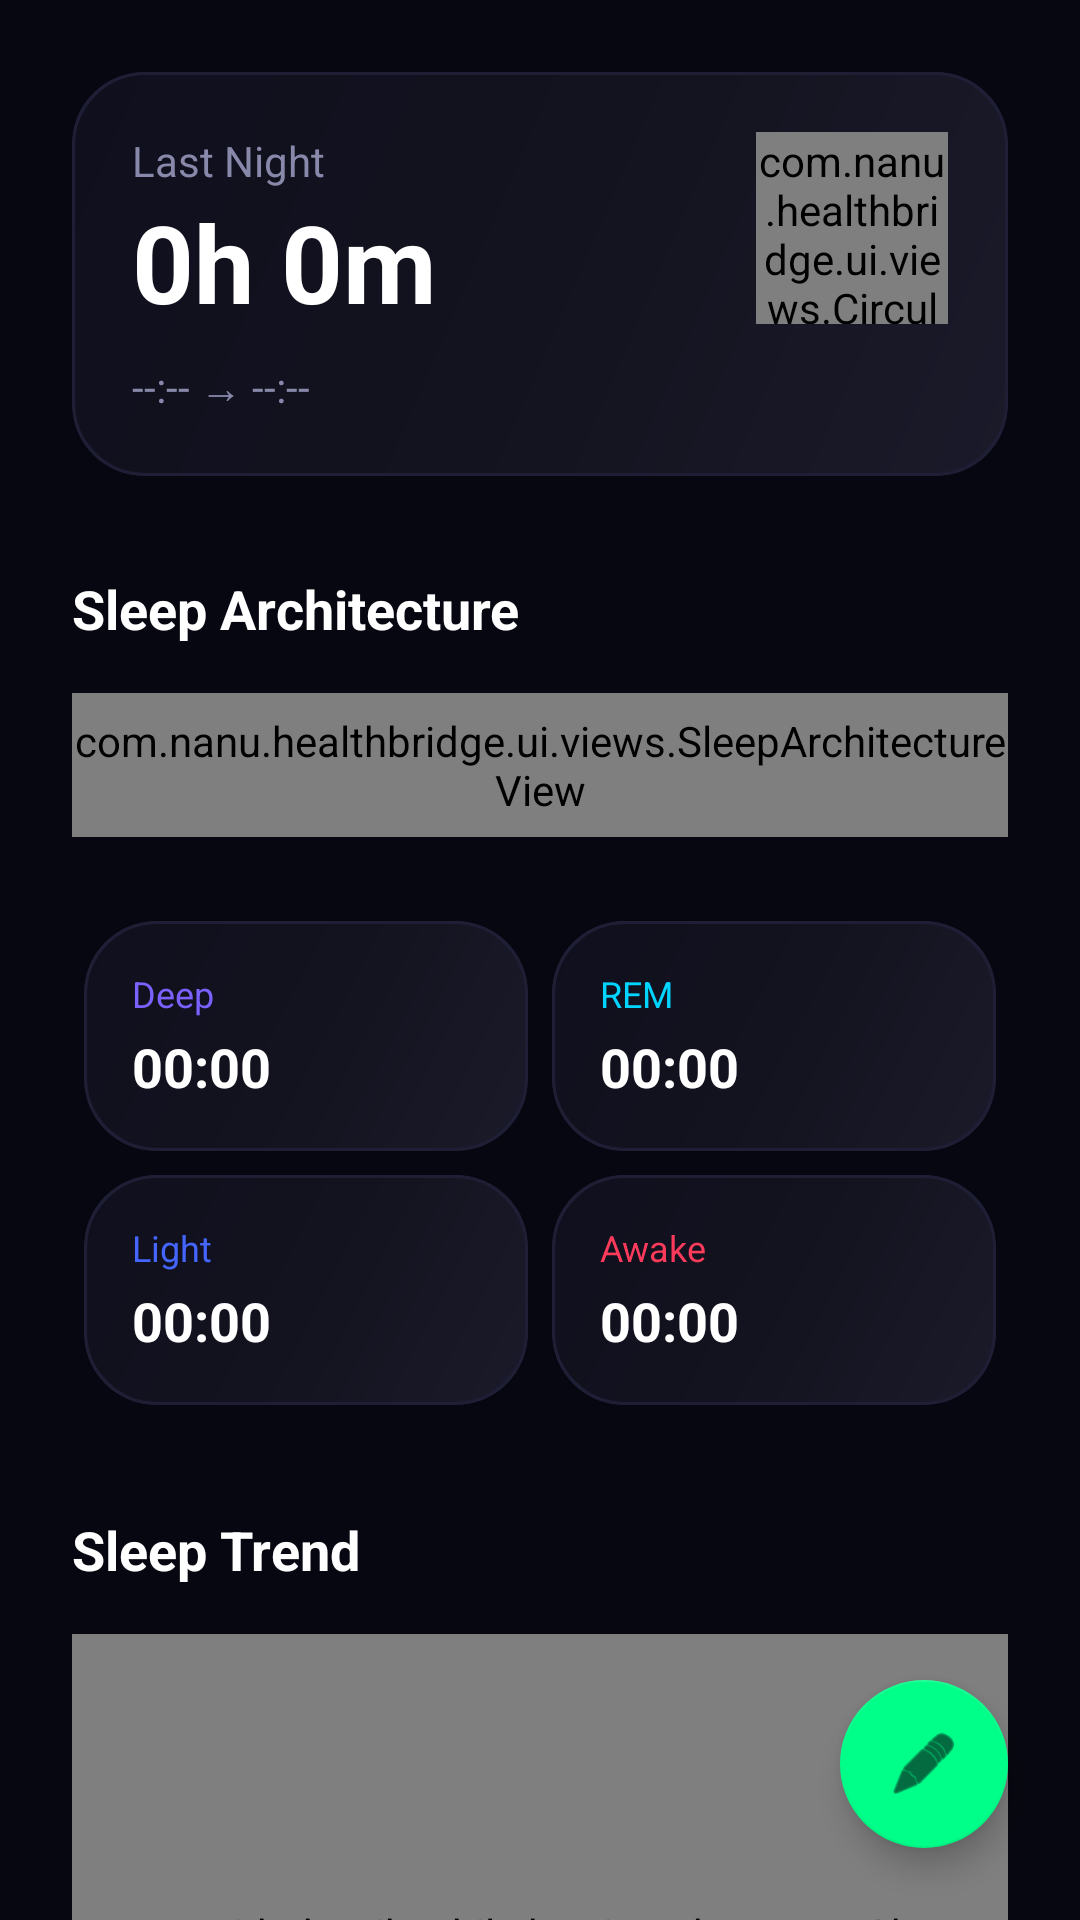

Icon bounding boxes for this 1080 x 1920 phone screenshot, format (x1, y1, x2, y2):
edit: (840, 1680, 1008, 1848)
